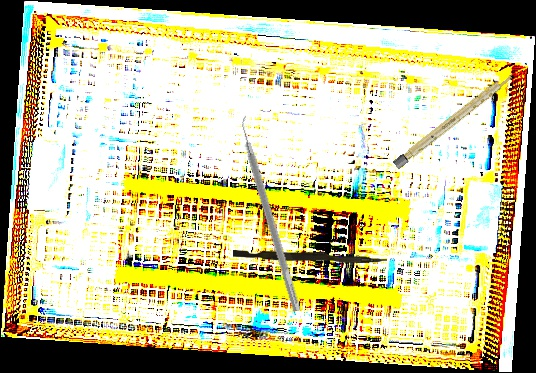Pusher: (232, 249, 388, 264)
Scalpel Handle: (392, 70, 516, 170)
Spatula Surgical: (233, 113, 311, 313)
